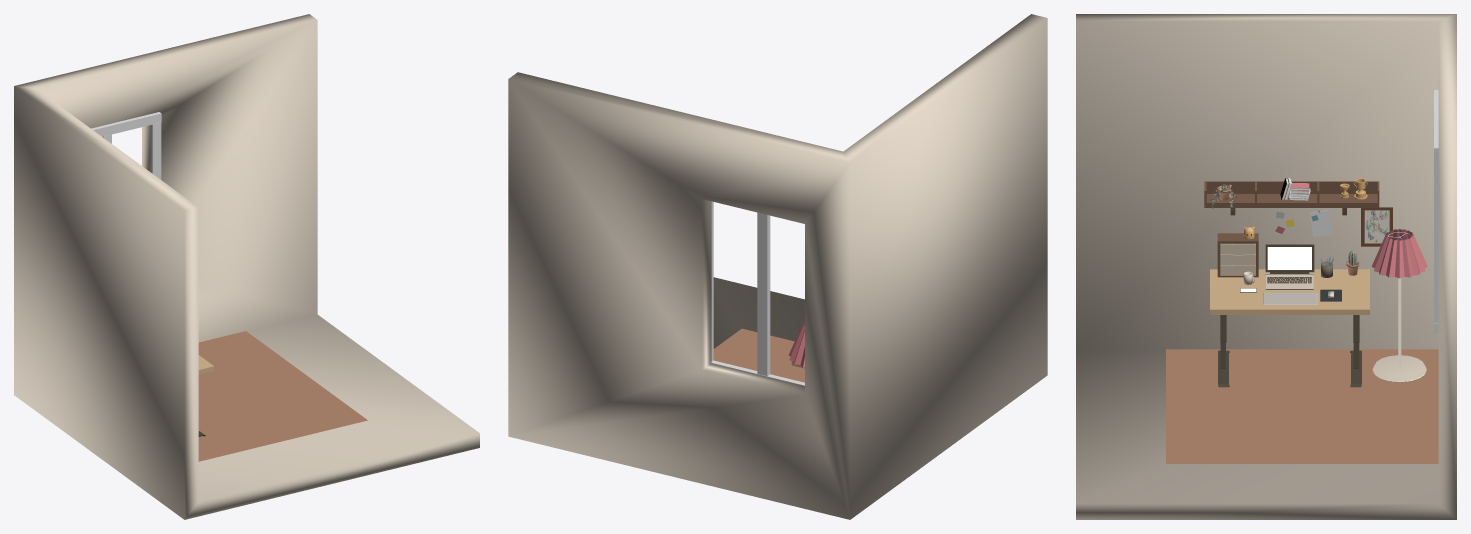
File: room_portfolio-v1.glb
3 renders of one model, left to right at view 1: azimuth 30°, elevation 25°; view 2: azimuth 150°, elevation 25°; view 3: azimuth 270°, elevation 25°, orthographic. The views are drawn at different scales.
Visible parts, largest first — view 1: Cube, floor, window; view 2: Cube, window, floor; view 3: Cube, floor, tabletop, shelf, Circle.001, lampstand, window, Plane.005, Plane.009, Plane.010, tablelegs, Plane.004 (+5 smaller).
Part boxes in pixels (x1,y1,x2,y2): Cube: (14, 14, 479, 519); floor: (198, 331, 367, 461); window: (91, 112, 161, 179); Cube: (508, 14, 1047, 519); window: (711, 201, 804, 386); floor: (713, 328, 804, 382); Cube: (1076, 14, 1456, 519); floor: (1166, 349, 1438, 463); tabletop: (1210, 269, 1369, 314); shelf: (1204, 181, 1379, 207); Circle.001: (1371, 229, 1427, 278); lampstand: (1372, 278, 1426, 382); window: (1434, 90, 1438, 333); Plane.005: (1220, 243, 1255, 275); Plane.009: (1267, 247, 1311, 269); Plane.010: (1364, 210, 1389, 243); tablelegs: (1220, 315, 1359, 368); Plane.004: (1217, 233, 1258, 277).
Bounding box in the file's own units: 39.72 × 39.72 × 39.72.
Materials: 48 (1 with a texture image).
